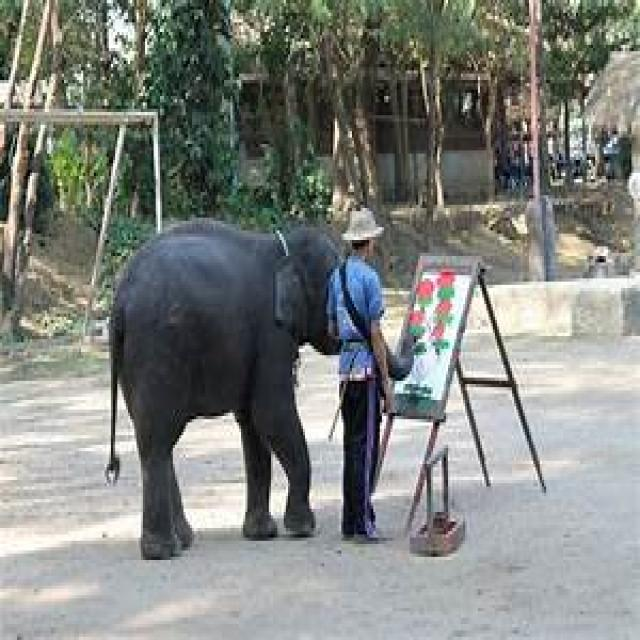elephant: (107, 221, 384, 563)
